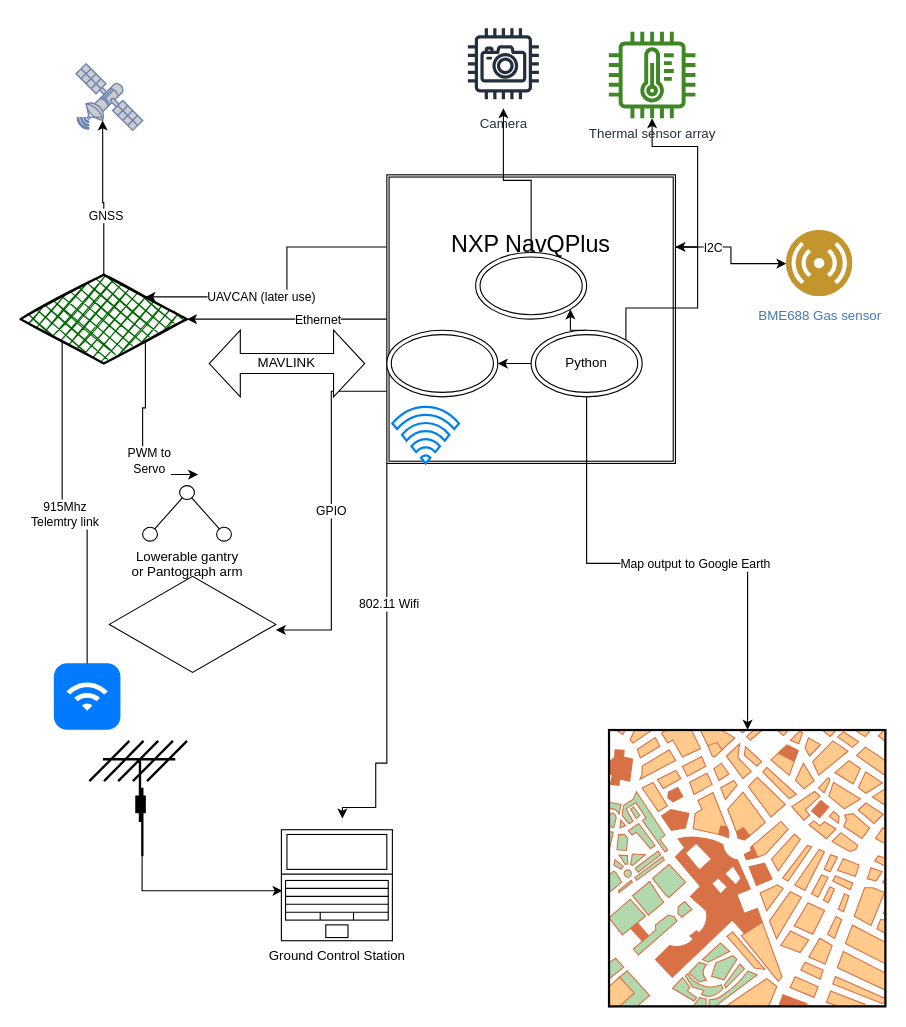
The diagram is 906 pixels wide and 1027 high, and some of its shapes have lost their labels. Here are the shapes that lost their labels. From the top down, the box of each, then its label:
(475, 251, 587, 319): OpenCV
(19, 273, 188, 364): NXP FMUK66
(386, 329, 498, 397): Mavlink-router
(108, 573, 276, 674): Magnetometer (future)
